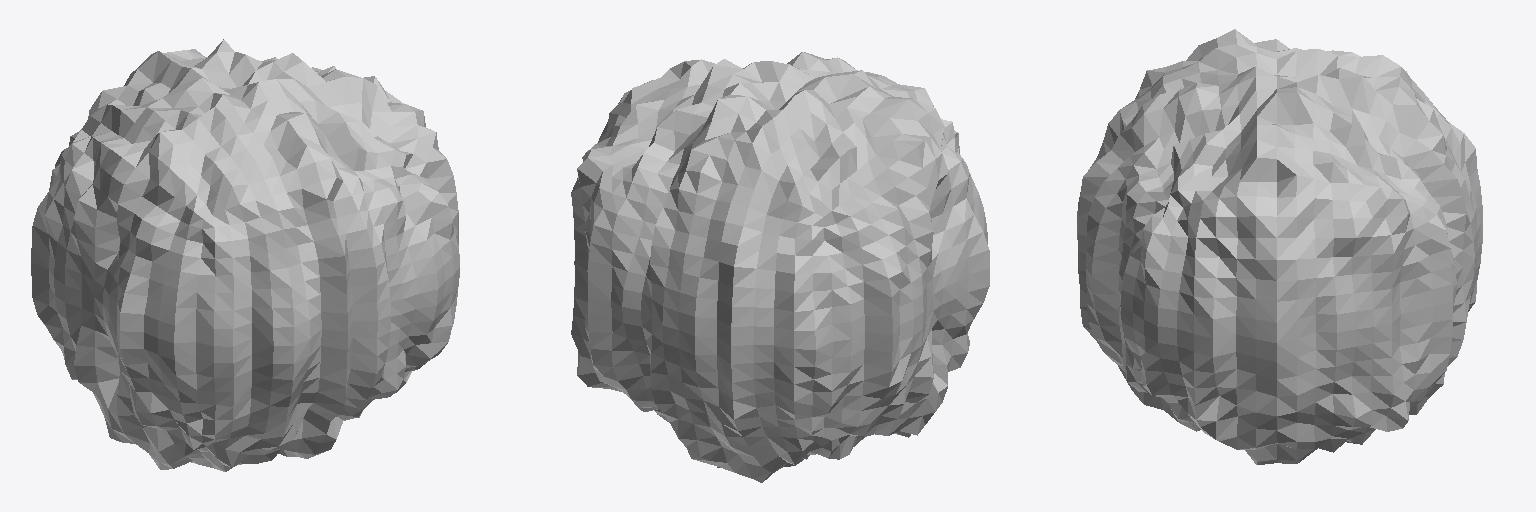
The model's file is asteroid21.obj.
3 renders of one model, left to right at view 1: azimuth 30°, elevation 25°; view 2: azimuth 150°, elevation 25°; view 3: azimuth 270°, elevation 25°, orthographic.
Parts seen in each view (by area): view 1: Cube_Cube.002; view 2: Cube_Cube.002; view 3: Cube_Cube.002.
Boxes of the visible parts, box(x1,y1,x2,y2) form: Cube_Cube.002: box(31, 39, 459, 471); Cube_Cube.002: box(571, 52, 989, 482); Cube_Cube.002: box(1077, 29, 1482, 464).
Bounding box in the file's own units: 1.76 × 1.74 × 1.73.